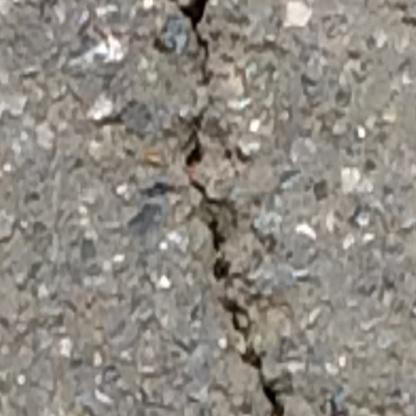Cracks: (188, 176, 297, 416), (153, 0, 225, 91), (179, 103, 213, 171)
